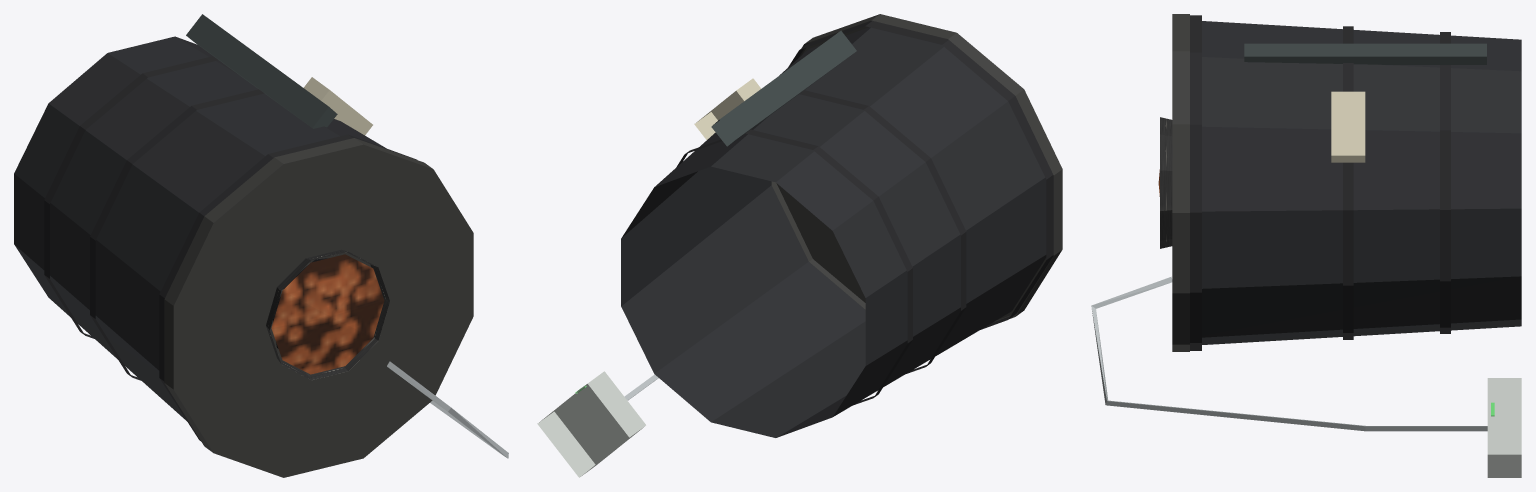
Rendered from pot_dwc_full.obj.
3 views of the same model, side by side, from view 1: azimuth 30°, elevation 25°; view 2: azimuth 150°, elevation 25°; view 3: azimuth 270°, elevation 25° (orthographic). The views are drawn at different scales.
Bounding box in the file's own units: 0.593 × 0.608 × 0.633.
Materials: 1 (1 with a texture image).
